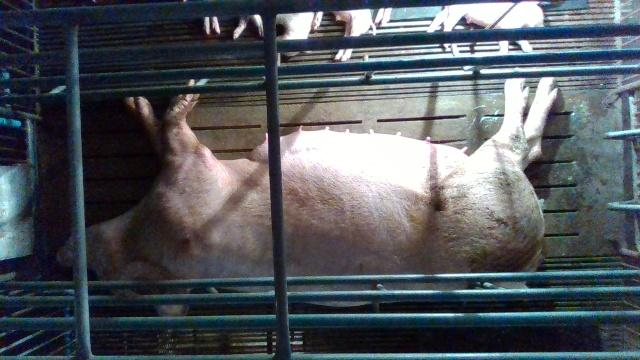piglet: (427, 2, 545, 54), (312, 9, 378, 64), (276, 10, 314, 58), (202, 14, 265, 41)
sow-sleep-lactate: (55, 77, 560, 318)
